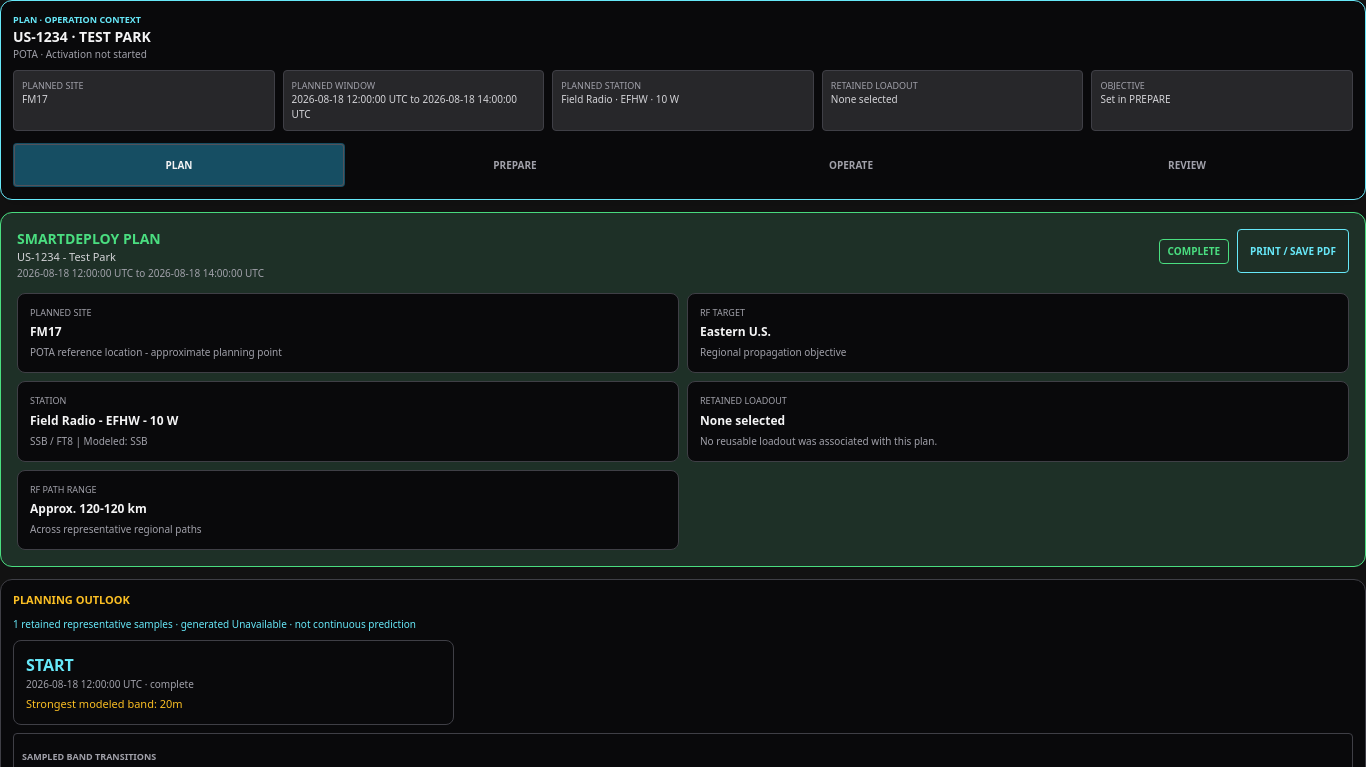
Test: SmartDeploy brief rendering › keeps the active OPERATE work surface usable when optional evidence is unavailable
The width and height of the screenshot is (1366, 767).
Click the button "operate".
click(851, 165)  # box left=685, top=143, right=1017, bottom=187
(page scrolled)
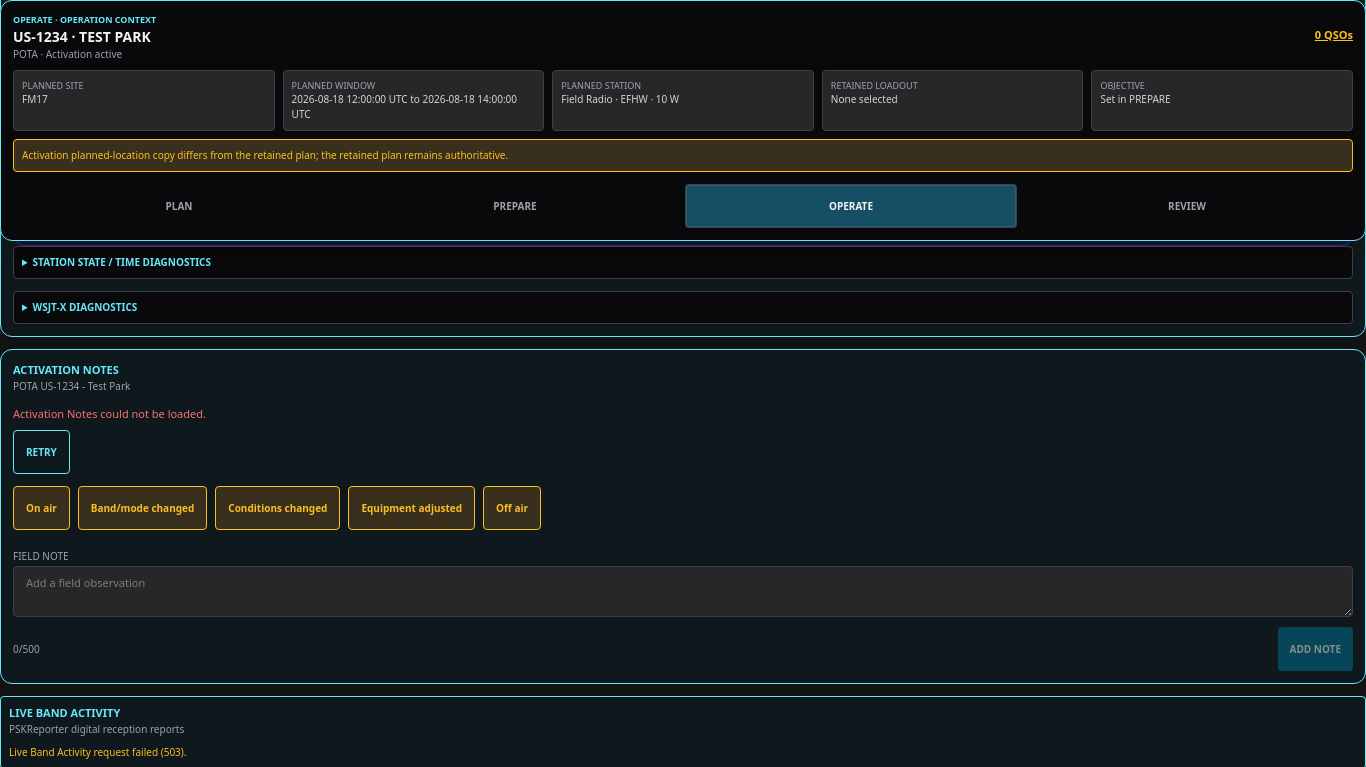
Check: the heading "ACTIVATION NOTES" is shown, box left=13, top=362, right=130, bottom=378
Check: the element "LIVE BAND ACTIVITY" shows "Live Band Activity request failed", box left=9, top=744, right=186, bottom=758
